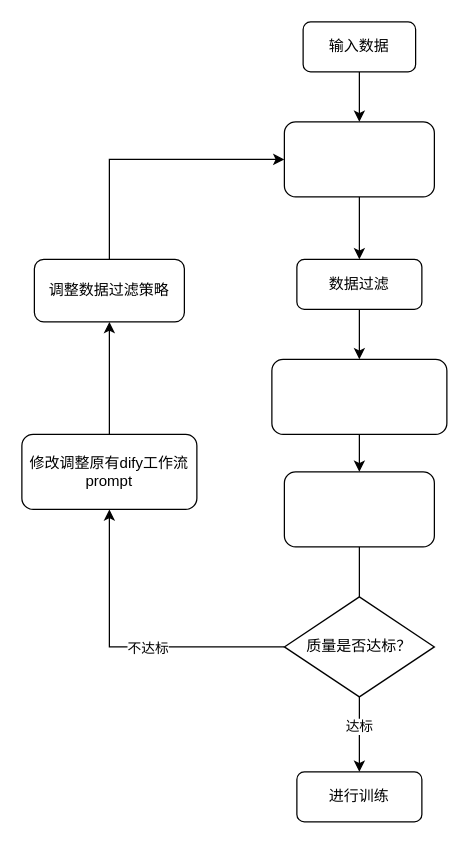
Image size: 469x844. Some labels were removed from this diagram. Here are the shapes that lost their labels. From the top down, the box of each, then its label:
(283, 121, 434, 197): 输入dify工作流进行数据生成
(271, 358, 447, 434): 删除首轮数据以及多余列，调整格式
(283, 471, 434, 547): 随机选择50-100个case进行评估
